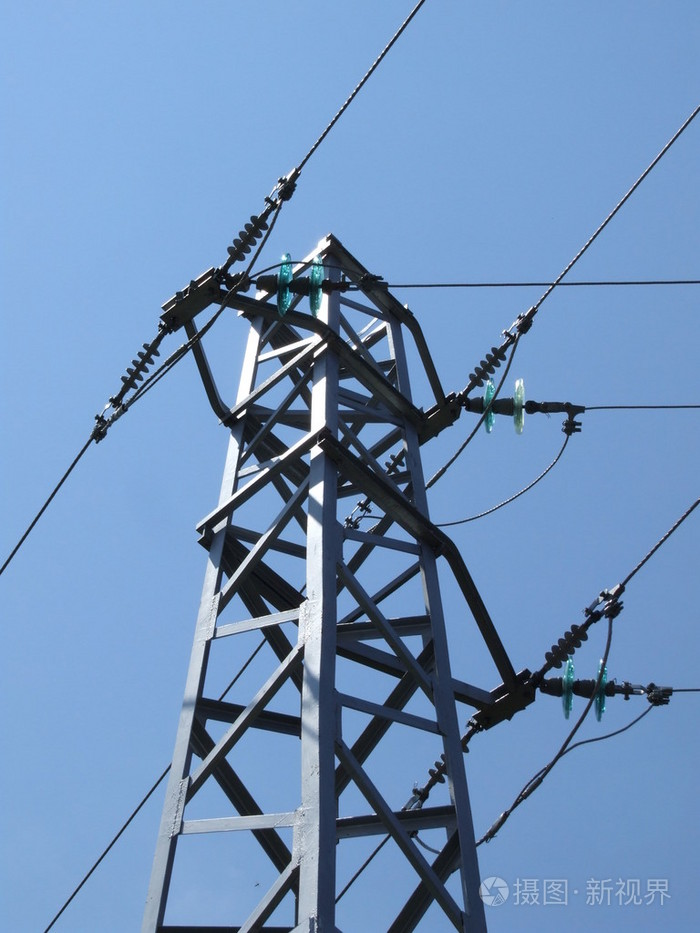insulator: (556, 655, 611, 725), (481, 372, 532, 441), (275, 254, 321, 316), (116, 336, 157, 389), (228, 213, 268, 266), (542, 621, 587, 668), (466, 344, 506, 382)
